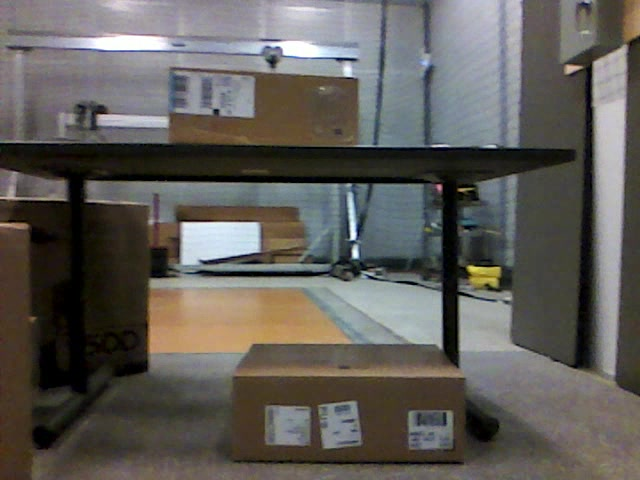box: (231, 343, 468, 463), (1, 195, 148, 374), (168, 68, 357, 144), (1, 224, 31, 480)
